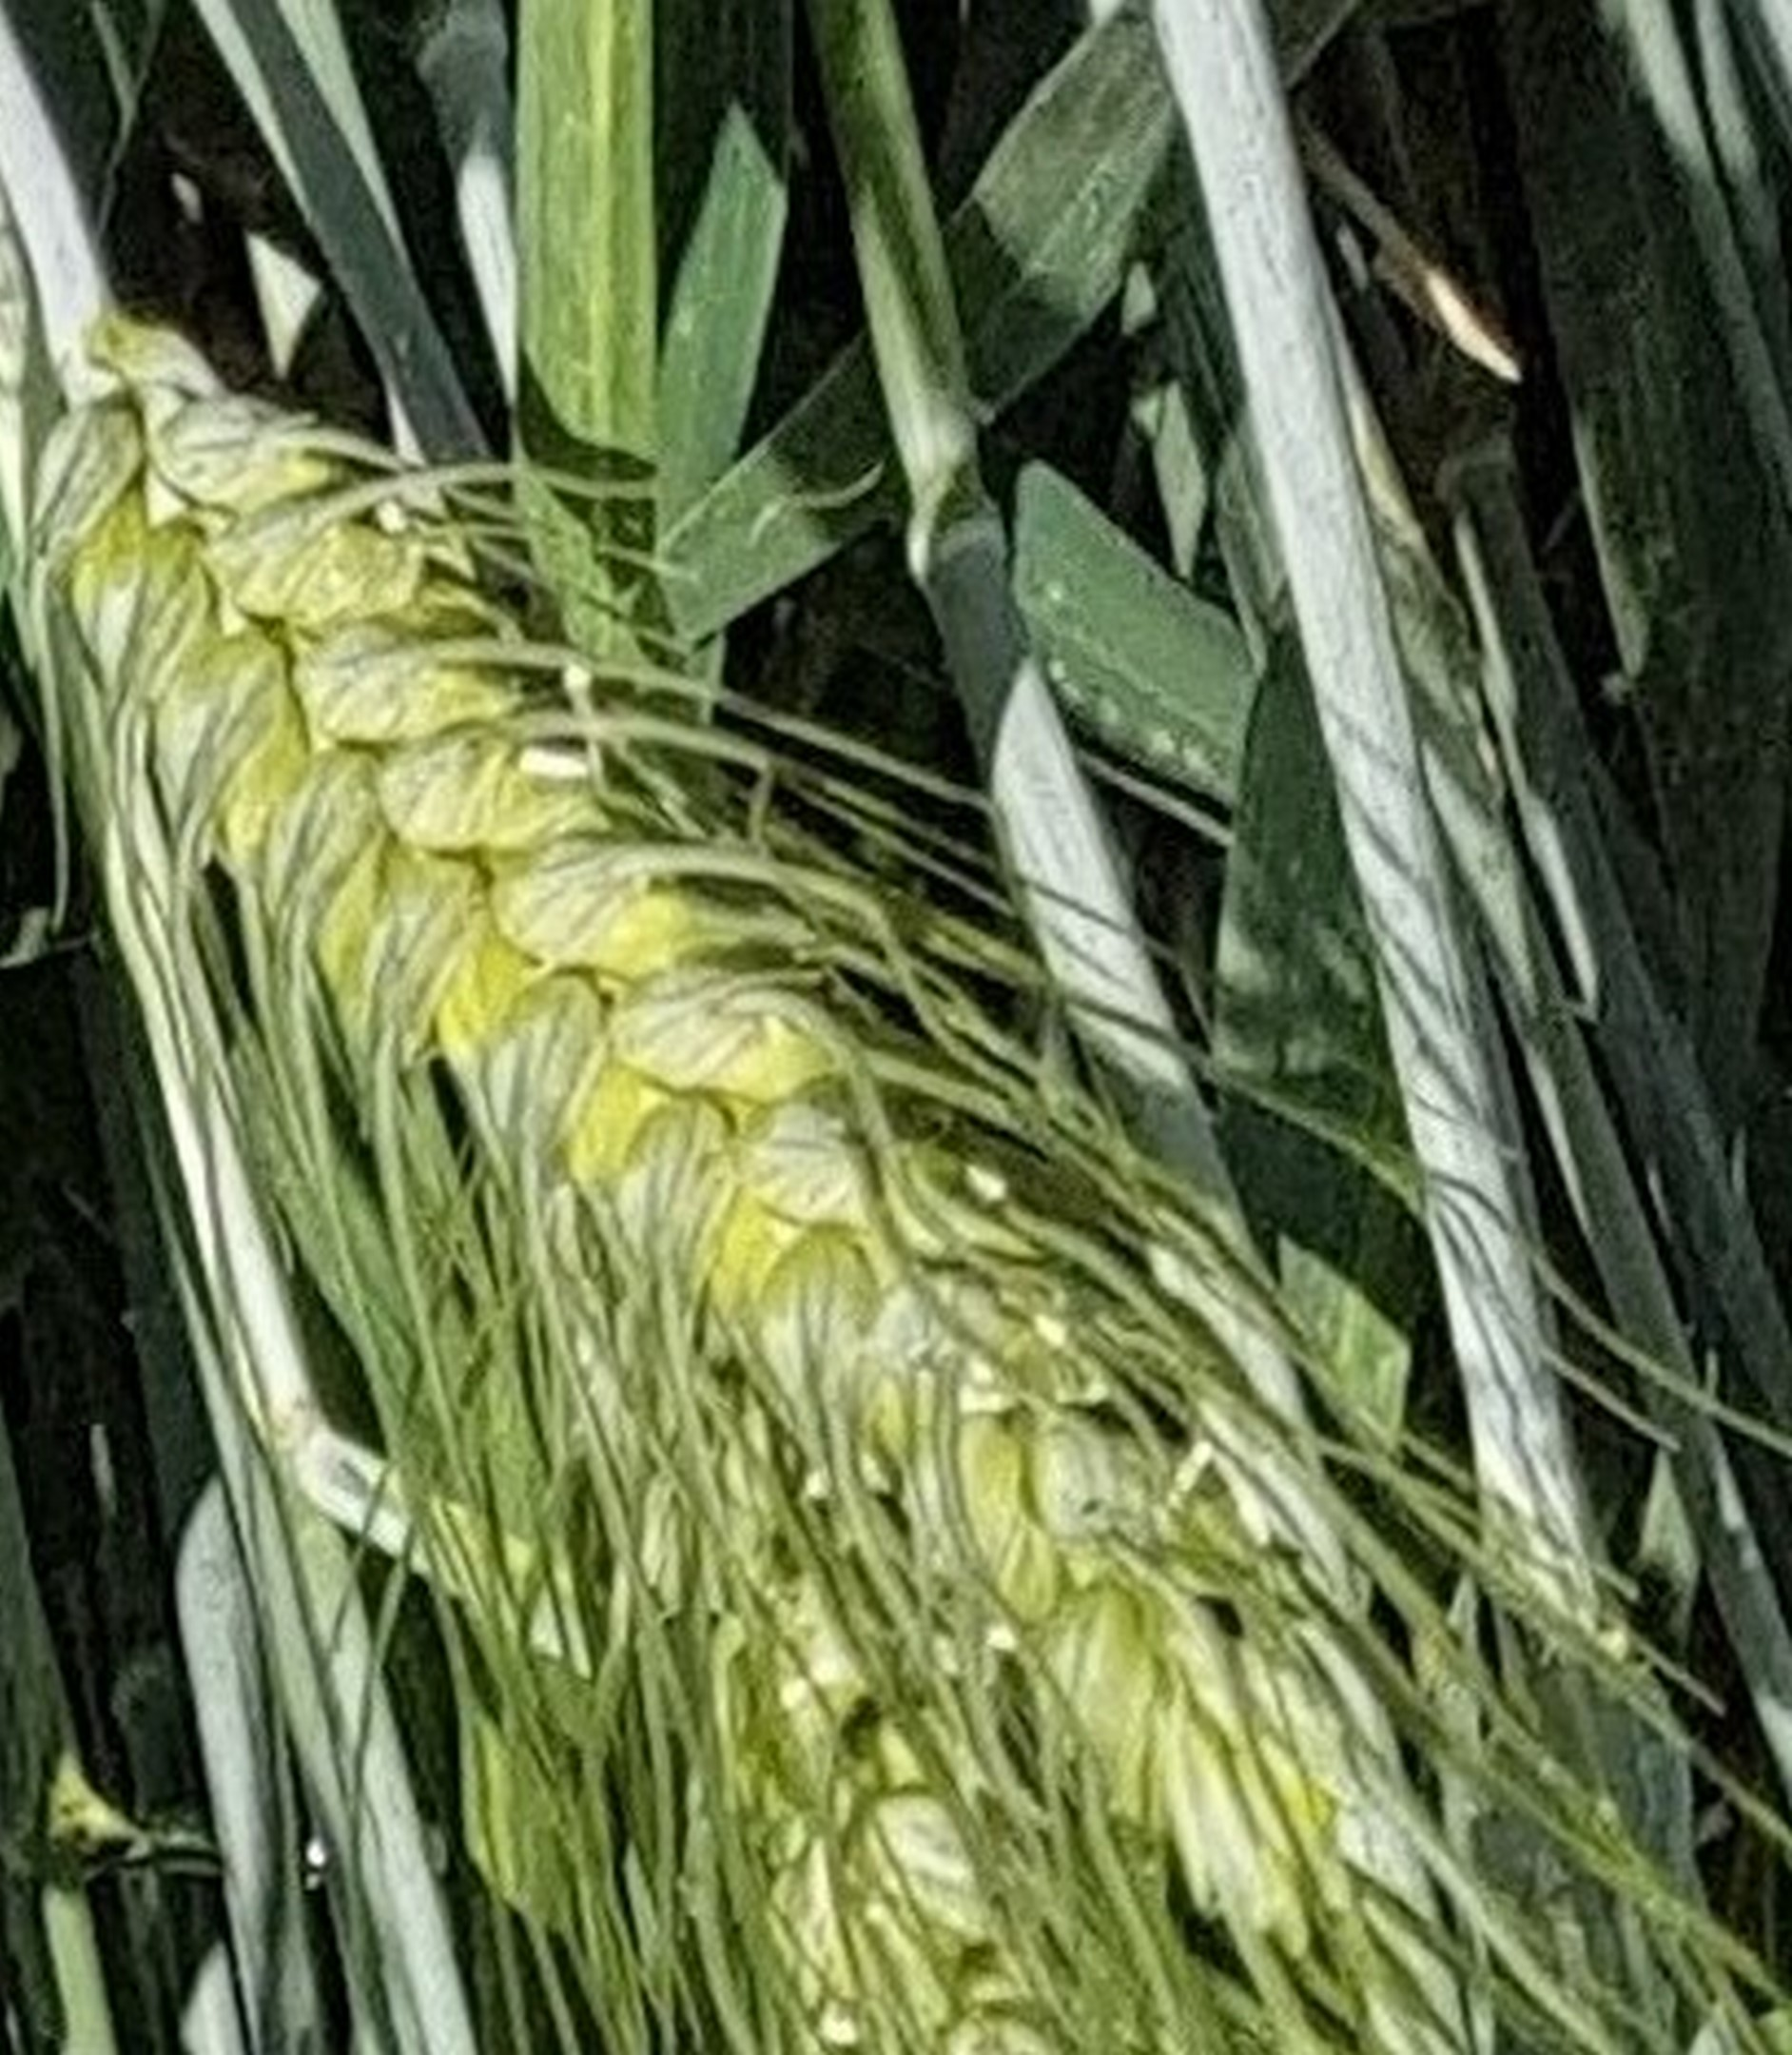Healthy Wheat: (61, 330, 1506, 1899)
